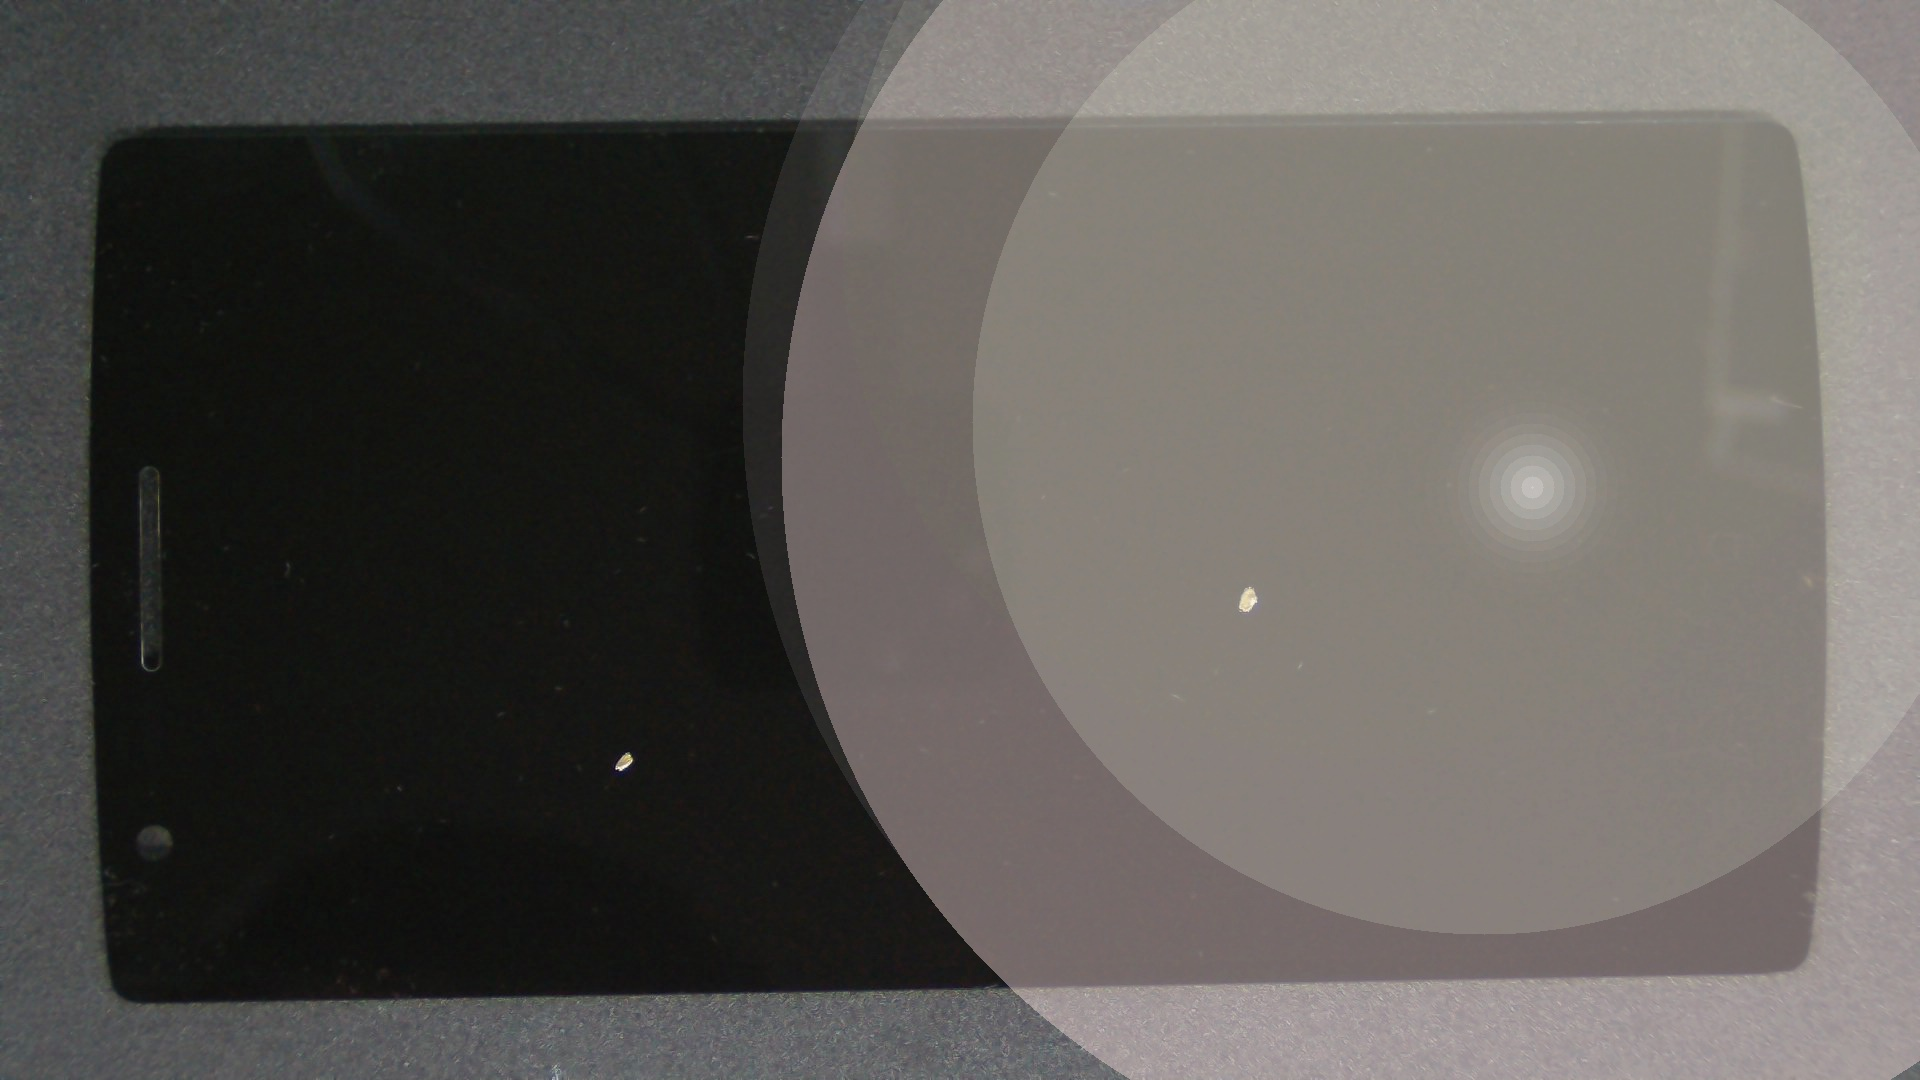oil: (625, 290, 1867, 880), (315, 375, 943, 1080)
